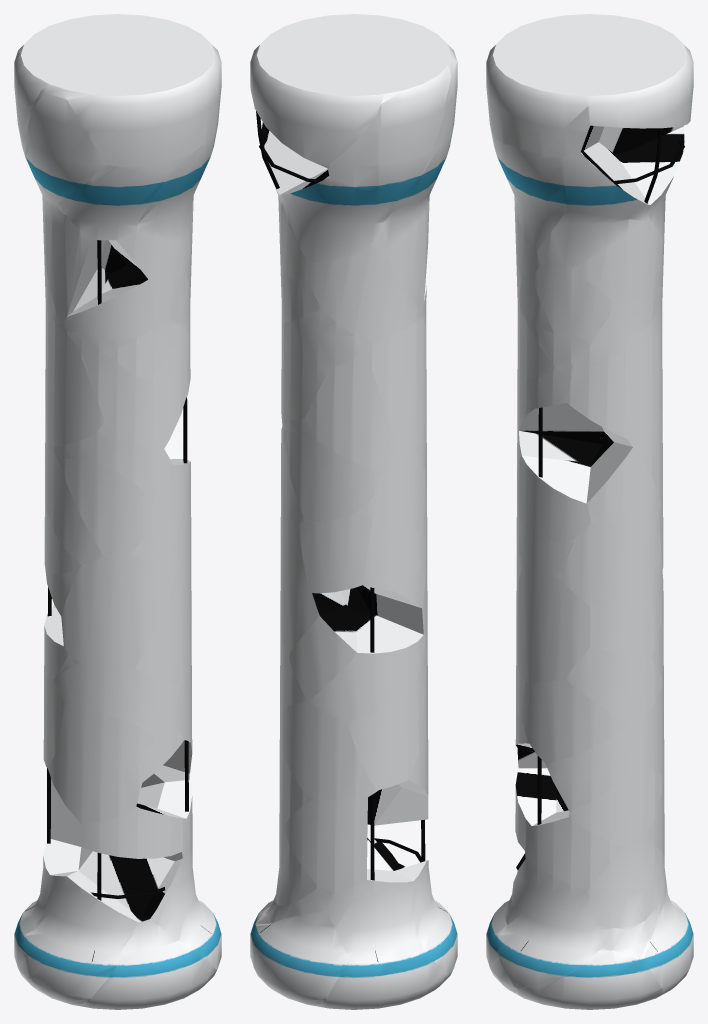
Rendered from PillarStages.fbx.
3 renders of one model, left to right at view 1: azimuth 30°, elevation 25°; view 2: azimuth 150°, elevation 25°; view 3: azimuth 270°, elevation 25°, orthographic.
Visible parts, largest first — view 1: Pillar_Stage_06, Pillar_Stage_03, Pillar_Stage_08, Pillar_Stage_01, Pillar_Stage_07, Pillar_Stage_09, Pillar_Stage_02, Pillar_Stage_04, Pillar_Stage_05, Pillar_Stage_00; view 2: Pillar_Stage_06, Pillar_Stage_08, Pillar_Stage_09, Pillar_Stage_04, Pillar_Stage_01, Pillar_Stage_02, Pillar_Stage_05, Pillar_Stage_03, Pillar_Stage_07, Pillar_Stage_00; view 3: Pillar_Stage_06, Pillar_Stage_07, Pillar_Stage_04, Pillar_Stage_02, Pillar_Stage_05, Pillar_Stage_03, Pillar_Stage_01, Pillar_Stage_09, Pillar_Stage_08, Pillar_Stage_00.
Boxes of the visible parts, left/top/right/bottom form: Pillar_Stage_06: left=14, top=14, right=221, bottom=1005; Pillar_Stage_03: left=50, top=232, right=216, bottom=1009; Pillar_Stage_08: left=14, top=117, right=218, bottom=996; Pillar_Stage_01: left=43, top=239, right=191, bottom=742; Pillar_Stage_07: left=25, top=83, right=221, bottom=969; Pillar_Stage_09: left=19, top=216, right=221, bottom=976; Pillar_Stage_02: left=43, top=239, right=192, bottom=782; Pillar_Stage_04: left=44, top=206, right=193, bottom=861; Pillar_Stage_05: left=53, top=550, right=191, bottom=765; Pillar_Stage_00: left=25, top=240, right=211, bottom=961; Pillar_Stage_06: left=250, top=14, right=457, bottom=979; Pillar_Stage_08: left=261, top=122, right=446, bottom=1009; Pillar_Stage_09: left=250, top=205, right=429, bottom=976; Pillar_Stage_04: left=251, top=169, right=428, bottom=1006; Pillar_Stage_01: left=280, top=249, right=427, bottom=800; Pillar_Stage_02: left=280, top=169, right=426, bottom=789; Pillar_Stage_05: left=255, top=119, right=427, bottom=926; Pillar_Stage_03: left=281, top=323, right=436, bottom=901; Pillar_Stage_07: left=273, top=59, right=457, bottom=905; Pillar_Stage_00: left=256, top=111, right=447, bottom=961; Pillar_Stage_06: left=486, top=14, right=693, bottom=901; Pillar_Stage_07: left=497, top=15, right=664, bottom=988; Pillar_Stage_04: left=516, top=126, right=693, bottom=994; Pillar_Stage_02: left=515, top=153, right=663, bottom=752; Pillar_Stage_05: left=516, top=125, right=683, bottom=960; Pillar_Stage_03: left=486, top=213, right=664, bottom=995; Pillar_Stage_01: left=516, top=236, right=664, bottom=776; Pillar_Stage_09: left=516, top=414, right=674, bottom=1009; Pillar_Stage_08: left=492, top=136, right=677, bottom=905; Pillar_Stage_00: left=516, top=128, right=684, bottom=951.
Size of the model in its own units: 0.82 by 4 by 0.82.
